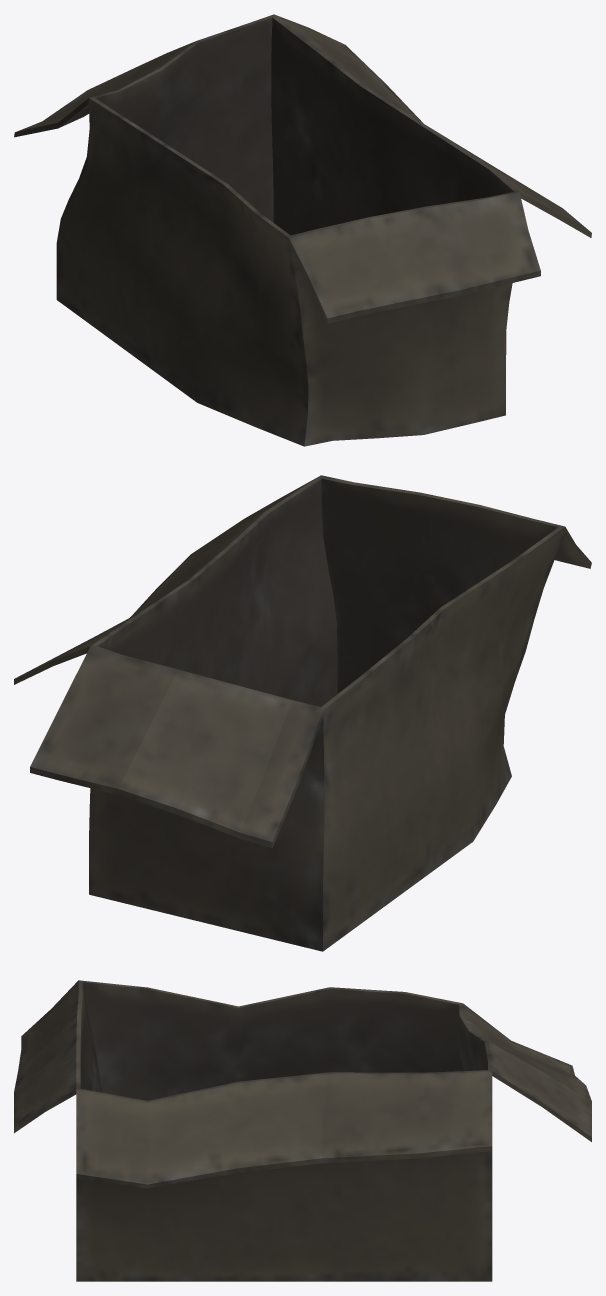
Rendered from SM_CerealBox_02.fbx.
3 renders of one model, top to bottom at view 1: azimuth 30°, elevation 25°; view 2: azimuth 150°, elevation 25°; view 3: azimuth 270°, elevation 25°, orthographic. The views are drawn at different scales.
Parts seen in each view (by area): view 1: SM_CerealBox_02_LOD0; view 2: SM_CerealBox_02_LOD0; view 3: SM_CerealBox_02_LOD0.
Part boxes in pixels (x1,y1,x2,y2): SM_CerealBox_02_LOD0: [14, 14, 591, 446]; SM_CerealBox_02_LOD0: [14, 475, 591, 951]; SM_CerealBox_02_LOD0: [14, 980, 591, 1281].
Bounding box in the file's own units: 14.59 × 25.71 × 10.29.
Materials: 1 (1 with a texture image).
